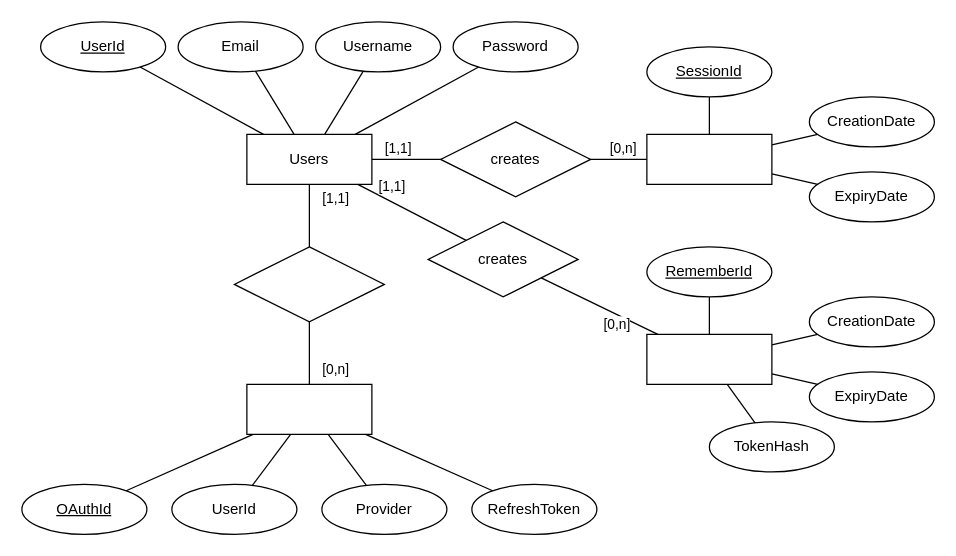
The diagram is 956 pixels wide and 556 high, and some of its shapes have lost their labels. The box of each missing label's shape, as (x1, y1, x2, y2) in pixels:
authenticates: (233, 246, 384, 322)
OAuth-Tokens: (246, 383, 372, 434)
Remember-Token: (646, 333, 772, 384)
Sessions: (646, 133, 772, 184)
